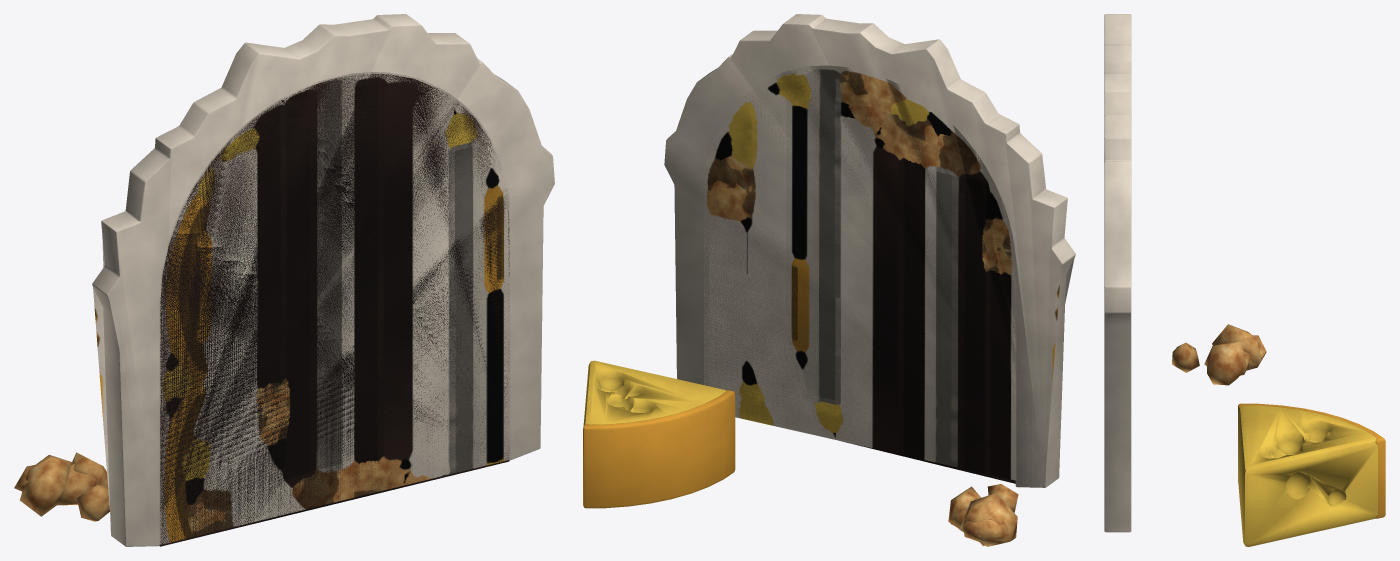
Rendered from MouseHole_Cheese.fbx.
3 renders of one model, left to right at view 1: azimuth 30°, elevation 25°; view 2: azimuth 150°, elevation 25°; view 3: azimuth 270°, elevation 25°, orthographic. The views are drawn at different scales.
Parts seen in each view (by area): view 1: MouseHole_Cheese; view 2: MouseHole_Cheese; view 3: MouseHole_Cheese.
Boxes of the visible parts, box(x1,y1,x2,y2) form: MouseHole_Cheese: box(14, 14, 554, 546); MouseHole_Cheese: box(583, 14, 1075, 546); MouseHole_Cheese: box(1104, 14, 1385, 546).
Size of the model in its own units: 1.22 by 1.17 by 0.7281.
Materials: 1 (1 with a texture image).
